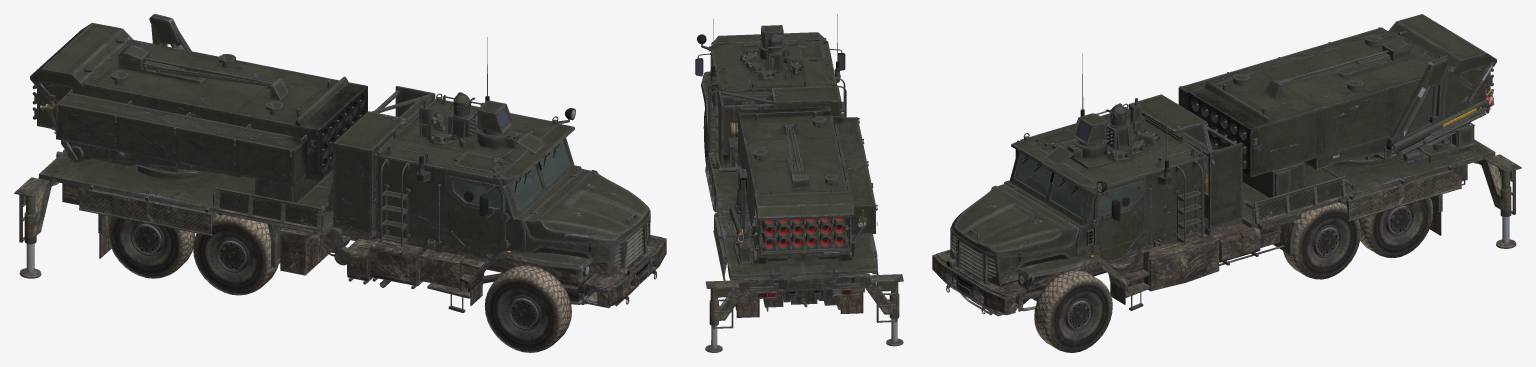
Rendered from tos-2_tosochka__broken_arrow.glb.
3 views of the same model, side by side, from view 1: azimuth 30°, elevation 25°; view 2: azimuth 150°, elevation 25°; view 3: azimuth 270°, elevation 25° (orthographic). The views are drawn at different scales.
Visible parts, largest first — view 1: Object_3, Object_4, Object_5, Object_2; view 2: Object_3, Object_4, Object_5; view 3: Object_3, Object_4, Object_5, Object_2.
Boxes of the visible parts, <box> form: Object_3: <box>14,37,666,312</box>; Object_4: <box>30,23,367,185</box>; Object_5: <box>93,14,589,352</box>; Object_2: <box>453,140,570,209</box>; Object_3: <box>695,14,903,352</box>; Object_4: <box>738,106,877,264</box>; Object_5: <box>703,110,845,310</box>; Object_3: <box>932,54,1521,316</box>; Object_4: <box>1178,14,1496,177</box>; Object_5: <box>1016,57,1494,352</box>; Object_2: <box>1015,154,1138,217</box>.
Bounding box in the file's own units: 8.24 × 4.18 × 9.96.
2 materials, 1 textured.
